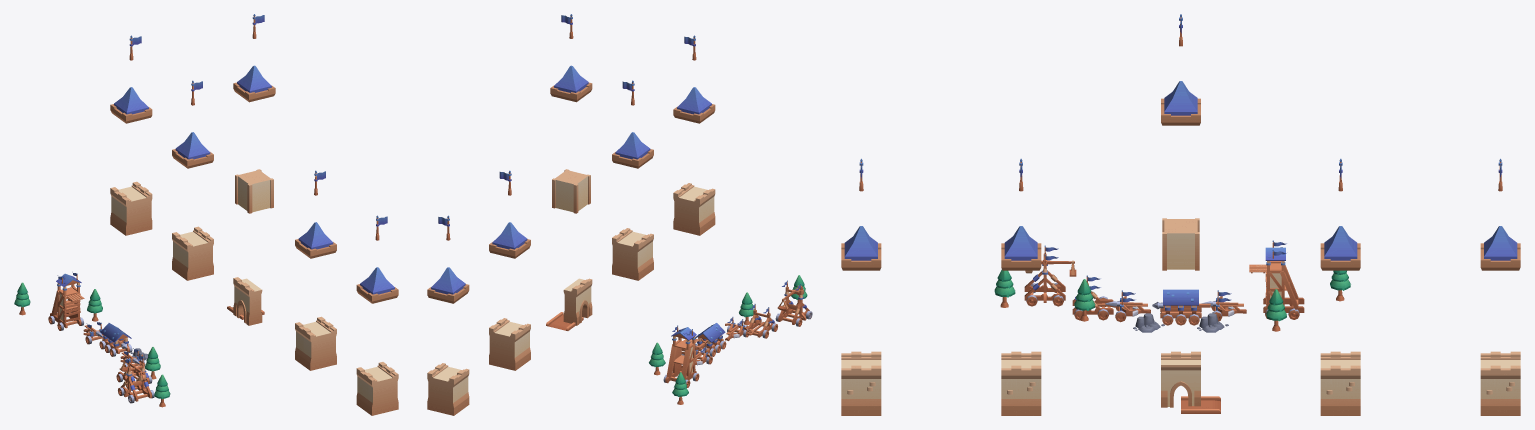
File: animation.glb
The picture shows the model from 3 angles, left to right: view 1: azimuth 30°, elevation 25°; view 2: azimuth 150°, elevation 25°; view 3: azimuth 270°, elevation 25°; orthographic projection. The views are drawn at different scales.
Parts seen in each view (by area): view 1: wall.002, wall, wall.003, wall.001, tower-square-mid, siege-tower, wall-doorway, tower-square-top-roof, tower-square-top-roof.004, tower-square-top-roof.002, tower-square-top-roof.003, tower-square-top-roof.001 (+2 smaller); view 2: wall.002, wall.003, wall.001, wall, tower-square-mid, siege-tower, wall-doorway, tower-square-top-roof, tower-square-top-roof.003, tower-square-top-roof.001, tower-square-top-roof.002, tower-square-top-roof.004 (+3 smaller); view 3: wall, wall.002, wall.001, wall.003, tower-square-mid, wall-doorway, siege-tower, tower-square-top-roof.001, tower-square-top-roof.002, tower-square-top-roof.003, tower-square-top-roof.004, tower-square-top-roof (+2 smaller).
Boxes of the visible parts, x1,y1,x2,y2 form: wall.002: (110,181,152,235); wall: (172,226,213,280); wall.003: (356,362,398,415); wall.001: (295,316,336,370); tower-square-mid: (235,169,273,213); siege-tower: (50,272,84,328); wall-doorway: (233,277,262,325); tower-square-top-roof: (233,65,275,102); tower-square-top-roof.004: (356,267,398,303); tower-square-top-roof.002: (295,222,336,258); tower-square-top-roof.003: (110,87,152,123); tower-square-top-roof.001: (172,132,213,168); wall.002: (427,363,469,415); wall.003: (673,183,715,235); wall.001: (612,228,653,280); wall: (489,318,530,370); tower-square-mid: (552,169,590,213); siege-tower: (665,325,699,382); wall-doorway: (563,278,592,325); tower-square-top-roof: (550,65,592,102); tower-square-top-roof.003: (427,267,469,303); tower-square-top-roof.001: (489,222,530,258); tower-square-top-roof.002: (612,132,653,168); tower-square-top-roof.004: (673,87,715,123); wall: (1320,351,1360,415); wall.002: (1480,351,1520,415); wall.001: (1001,351,1041,415); wall.003: (841,351,881,415); tower-square-mid: (1162,218,1199,270); wall-doorway: (1161,351,1200,407); siege-tower: (1249,240,1304,312); tower-square-top-roof.001: (1320,226,1360,270); tower-square-top-roof.002: (1001,226,1041,270); tower-square-top-roof.003: (1480,226,1520,270); tower-square-top-roof.004: (841,226,881,270); tower-square-top-roof: (1161,81,1200,125).
Size of the model in its own units: 36.7 by 54.85 by 85.
33 materials, 33 textured.
